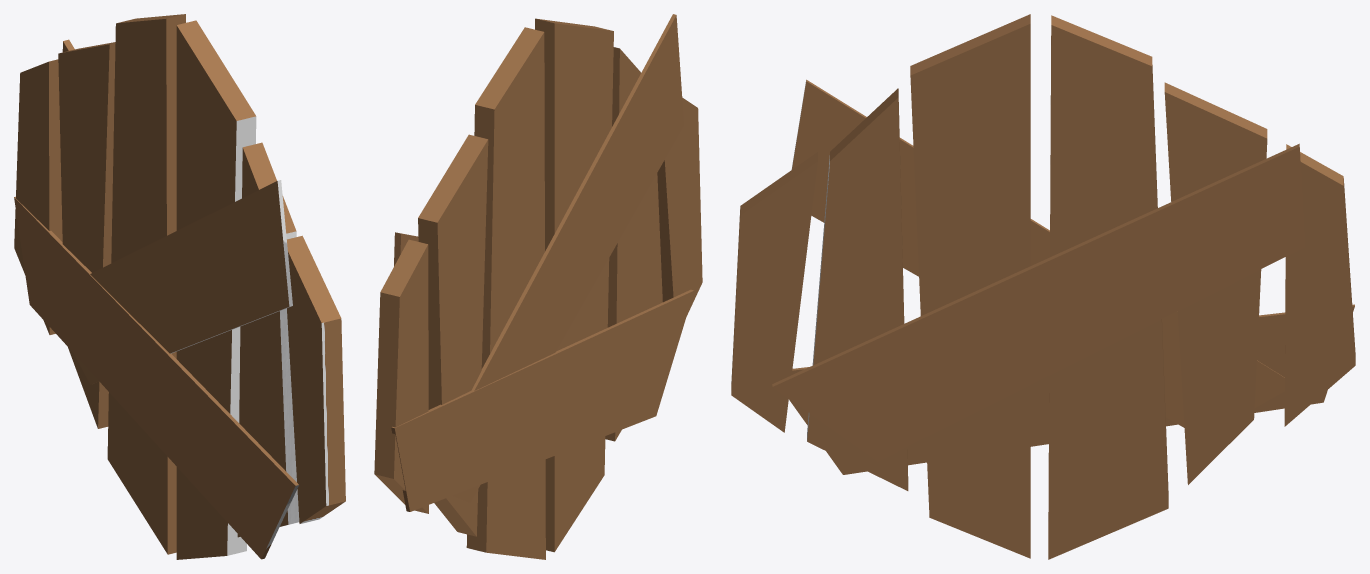
The model's file is shield.fbx.
The picture shows the model from 3 angles, left to right: view 1: azimuth 30°, elevation 25°; view 2: azimuth 150°, elevation 25°; view 3: azimuth 270°, elevation 25°; orthographic projection.
Visible parts, largest first — view 1: Cube; view 2: Cube; view 3: Cube.
Part boxes in pixels (bbox=[...]): Cube: bbox=[14, 14, 345, 559]; Cube: bbox=[374, 14, 702, 559]; Cube: bbox=[731, 14, 1355, 559].
Bounding box in the file's own units: 7.28 × 96.52 × 102.
